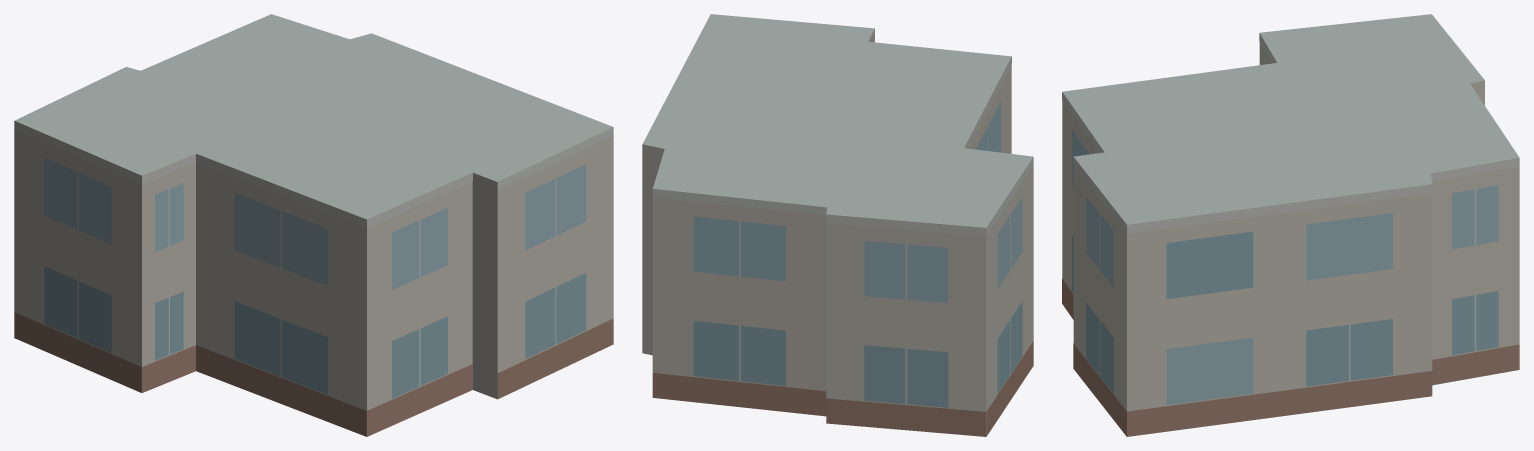
Rendered from survey-upis-32781469.glb.
3 views of the same model, side by side, from view 1: azimuth 30°, elevation 25°; view 2: azimuth 150°, elevation 25°; view 3: azimuth 270°, elevation 25° (orthographic). The views are drawn at different scales.
Visible parts, largest first — view 1: survey-upis-32781469.tmp; view 2: survey-upis-32781469.tmp; view 3: survey-upis-32781469.tmp.
Boxes of the visible parts, x1,y1,x2,y2 form: survey-upis-32781469.tmp: (14,14,613,436); survey-upis-32781469.tmp: (642,14,1033,436); survey-upis-32781469.tmp: (1062,14,1519,436).
Bounding box in the file's own units: 13.02 × 6.1 × 11.94.
